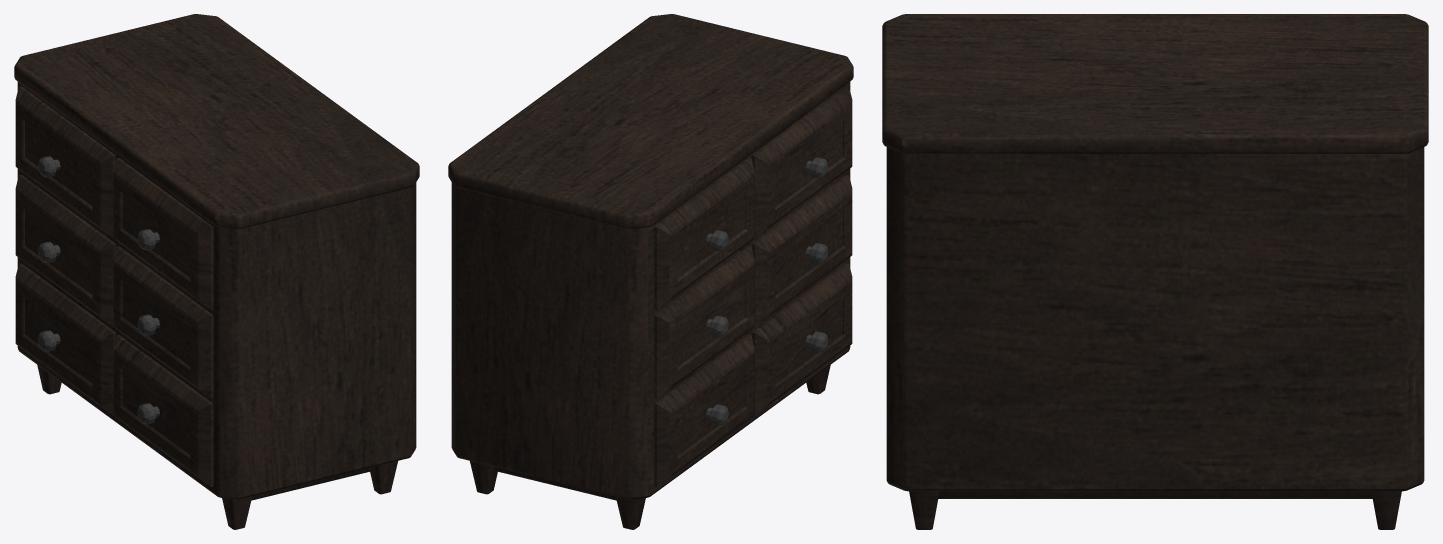
The model's file is wardrobe_1.obj.
The picture shows the model from 3 angles, left to right: view 1: azimuth 30°, elevation 25°; view 2: azimuth 150°, elevation 25°; view 3: azimuth 270°, elevation 25°; orthographic projection. The views are drawn at different scales.
Visible parts, largest first — view 1: wardrobe_1, wardrobe_1_drawer_5.001, wardrobe_1_drawer_4.001, wardrobe_1_drawer_6.001, wardrobe_1_drawer_1.001, wardrobe_1_drawer_3.001, wardrobe_1_drawer_2.001; view 2: wardrobe_1, wardrobe_1_drawer_2.001, wardrobe_1_drawer_1.001, wardrobe_1_drawer_3.001, wardrobe_1_drawer_4.001, wardrobe_1_drawer_6.001, wardrobe_1_drawer_5.001; view 3: wardrobe_1.
Boxes of the visible parts, box(x1,y1,x2,y2) form: wardrobe_1: box(14, 14, 419, 529); wardrobe_1_drawer_5.001: box(113, 246, 213, 398); wardrobe_1_drawer_4.001: box(113, 335, 213, 486); wardrobe_1_drawer_6.001: box(113, 158, 213, 309); wardrobe_1_drawer_1.001: box(15, 263, 115, 415); wardrobe_1_drawer_3.001: box(15, 86, 115, 237); wardrobe_1_drawer_2.001: box(15, 175, 115, 326); wardrobe_1: box(448, 14, 853, 529); wardrobe_1_drawer_2.001: box(654, 246, 754, 398); wardrobe_1_drawer_1.001: box(654, 335, 754, 486); wardrobe_1_drawer_3.001: box(654, 158, 754, 309); wardrobe_1_drawer_4.001: box(752, 263, 852, 415); wardrobe_1_drawer_6.001: box(752, 86, 852, 237); wardrobe_1_drawer_5.001: box(752, 175, 852, 326); wardrobe_1: box(882, 14, 1428, 529).
Bounding box in the file's own units: 0.78 × 1.07 × 1.3.
